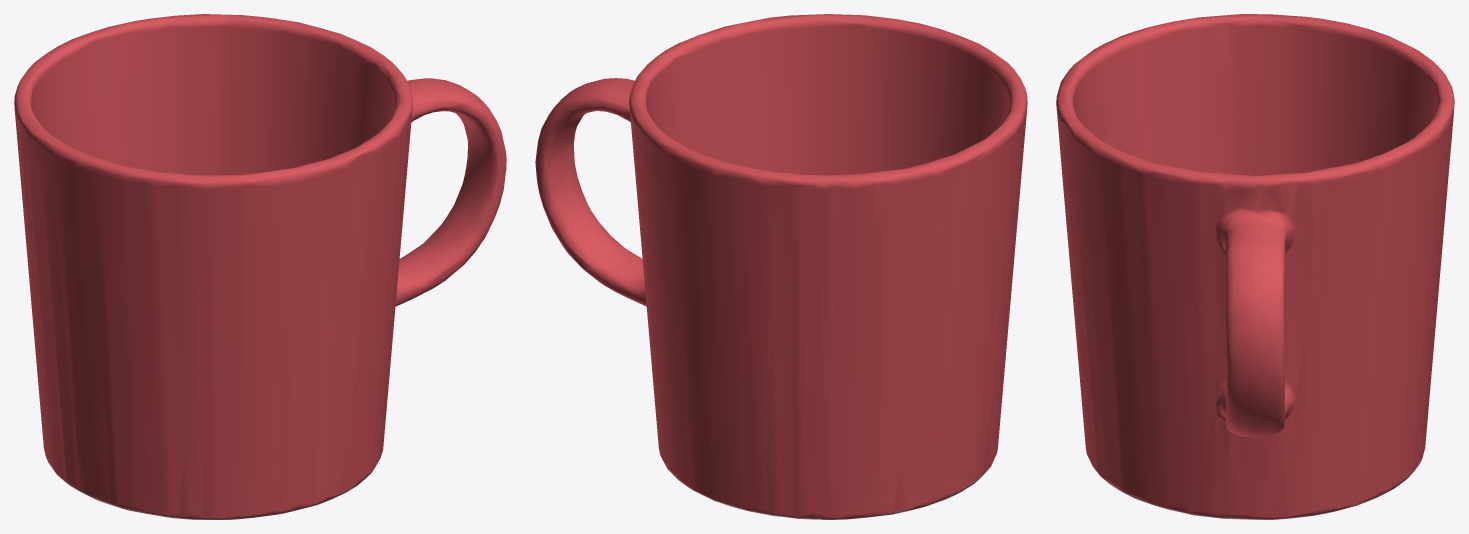
File: KEJSERLIG tasse.glb
3 renders of one model, left to right at view 1: azimuth 30°, elevation 25°; view 2: azimuth 150°, elevation 25°; view 3: azimuth 270°, elevation 25°, orthographic.
Parts seen in each view (by area): view 1: ProcessedMeshNode; view 2: ProcessedMeshNode; view 3: ProcessedMeshNode.
Boxes of the visible parts, x1=… form: ProcessedMeshNode: x1=14, y1=14, x2=506, y2=519; ProcessedMeshNode: x1=535, y1=14, x2=1027, y2=519; ProcessedMeshNode: x1=1056, y1=14, x2=1454, y2=519.
Bounding box in the file's own units: 0.1193 × 0.0885 × 0.0898.
Materials: 1 (1 with a texture image).
